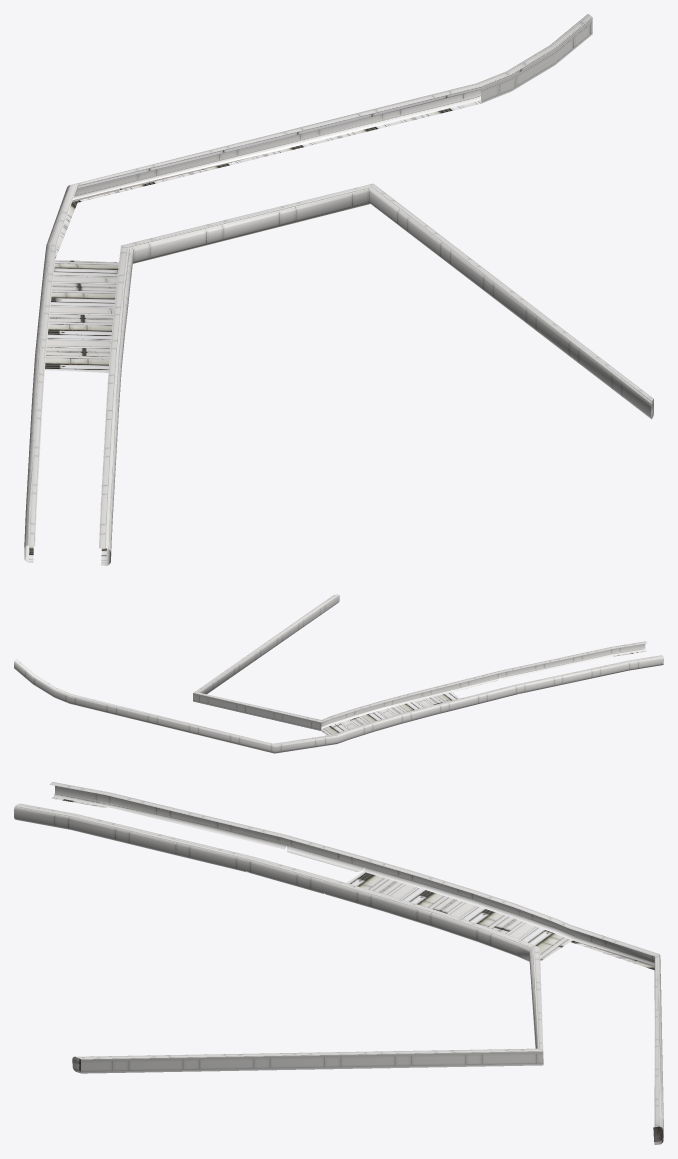
File: STA20_BridgeCurveG01.FBX
3 renders of one model, top to bottom at view 1: azimuth 30°, elevation 25°; view 2: azimuth 150°, elevation 25°; view 3: azimuth 270°, elevation 25°, orthographic. The views are drawn at different scales.
Parts seen in each view (by area): view 1: STA20_BridgeCurveG01; view 2: STA20_BridgeCurveG01; view 3: STA20_BridgeCurveG01.
Boxes of the visible parts, left/top/right/bottom form: STA20_BridgeCurveG01: left=24, top=14, right=653, bottom=565; STA20_BridgeCurveG01: left=14, top=594, right=663, bottom=753; STA20_BridgeCurveG01: left=14, top=782, right=663, bottom=1144.
Bounding box in the file's own units: 62.8 × 4.85 × 46.
